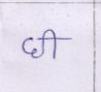i_matra: (45, 29, 60, 59)
